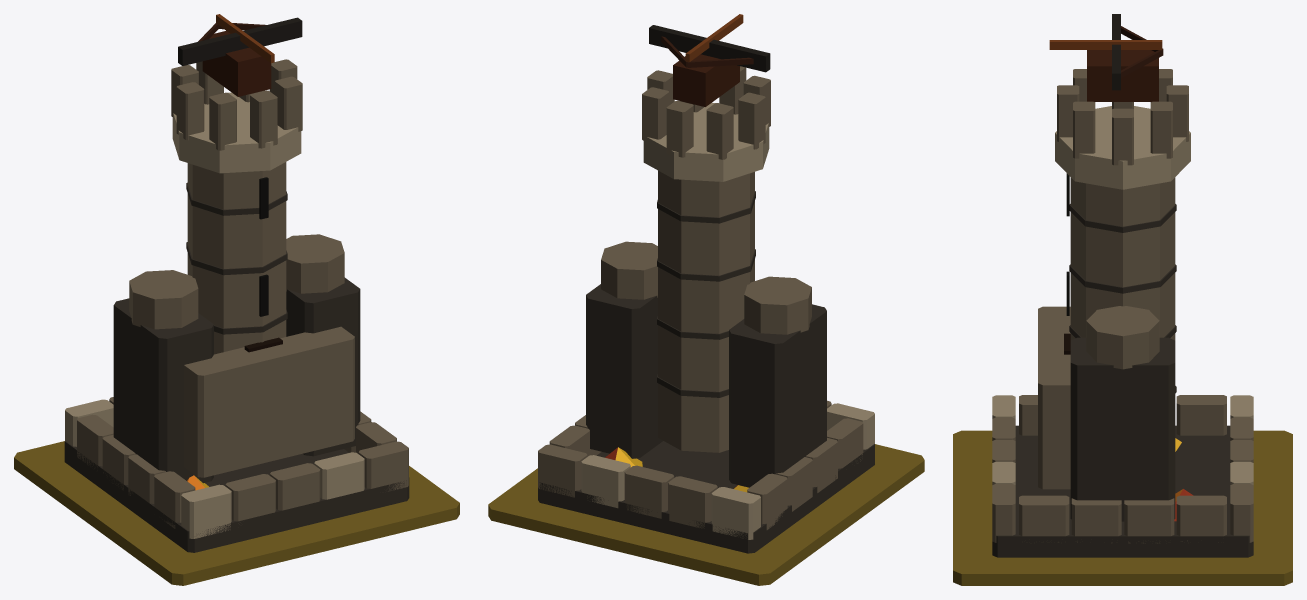
The model's file is bastion_t1.glb.
3 renders of one model, left to right at view 1: azimuth 30°, elevation 25°; view 2: azimuth 150°, elevation 25°; view 3: azimuth 270°, elevation 25°, orthographic. The views are drawn at different scales.
Parts seen in each view (by area): view 1: MMR | bastion | T01 Architecture.001, MMR | bastion | T01 Heavy Buttresses.001, MMR | bastion | Tier 01 Ground.001; view 2: MMR | bastion | T01 Architecture.001, MMR | bastion | T01 Heavy Buttresses.001, MMR | bastion | Tier 01 Ground.001; view 3: MMR | bastion | T01 Architecture.001, MMR | bastion | T01 Heavy Buttresses.001, MMR | bastion | Tier 01 Ground.001.
Part boxes in pixels (box(x1,y1,x2,y2)): MMR | bastion | T01 Architecture.001: box(64, 14, 409, 552); MMR | bastion | T01 Heavy Buttresses.001: box(113, 234, 360, 483); MMR | bastion | Tier 01 Ground.001: box(14, 441, 459, 585); MMR | bastion | T01 Architecture.001: box(538, 14, 874, 553); MMR | bastion | T01 Heavy Buttresses.001: box(586, 241, 826, 487); MMR | bastion | Tier 01 Ground.001: box(488, 444, 924, 585); MMR | bastion | T01 Architecture.001: box(992, 14, 1253, 557); MMR | bastion | T01 Heavy Buttresses.001: box(1038, 306, 1175, 521); MMR | bastion | Tier 01 Ground.001: box(953, 430, 1292, 585).
Size of the model in its own units: 1.3 by 2 by 1.3.
1 material, 1 textured.
